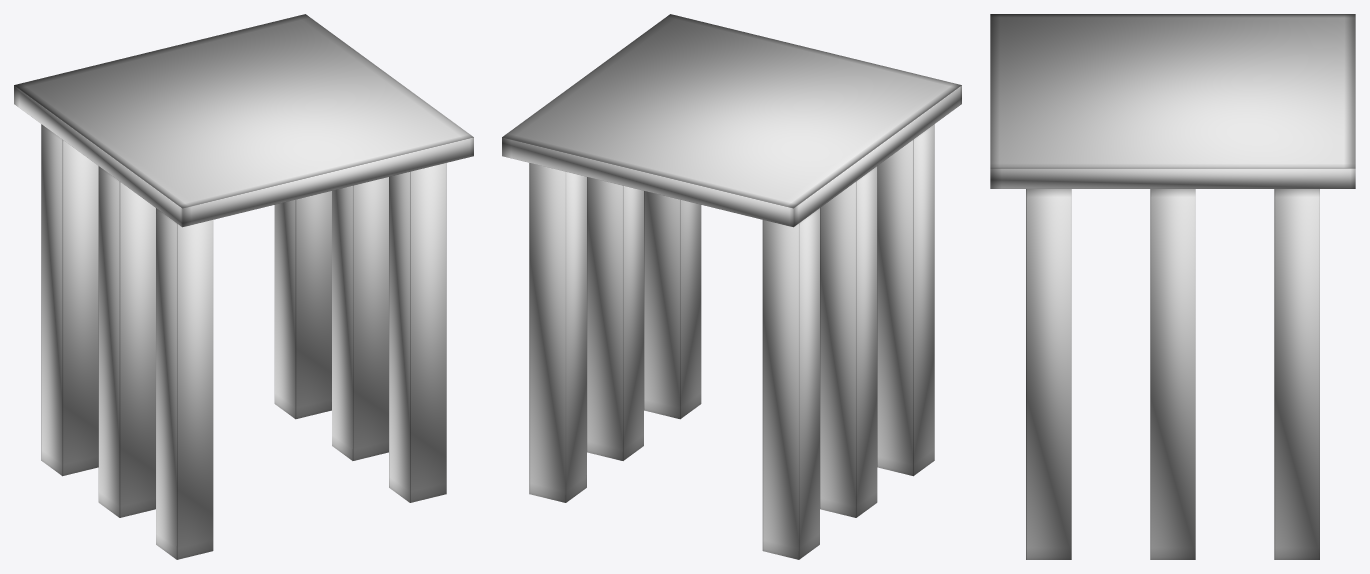
File: Pier-01.fbx
3 views of the same model, side by side, from view 1: azimuth 30°, elevation 25°; view 2: azimuth 150°, elevation 25°; view 3: azimuth 270°, elevation 25° (orthographic). The views are drawn at different scales.
Parts seen in each view (by area): view 1: Pier-01; view 2: Pier-01; view 3: Pier-01.
Boxes of the visible parts, x1,y1,x2,y2 form: Pier-01: (14, 14, 473, 559); Pier-01: (502, 14, 961, 559); Pier-01: (990, 14, 1355, 559).
Size of the model in its own units: 1 by 1.2 by 1.
